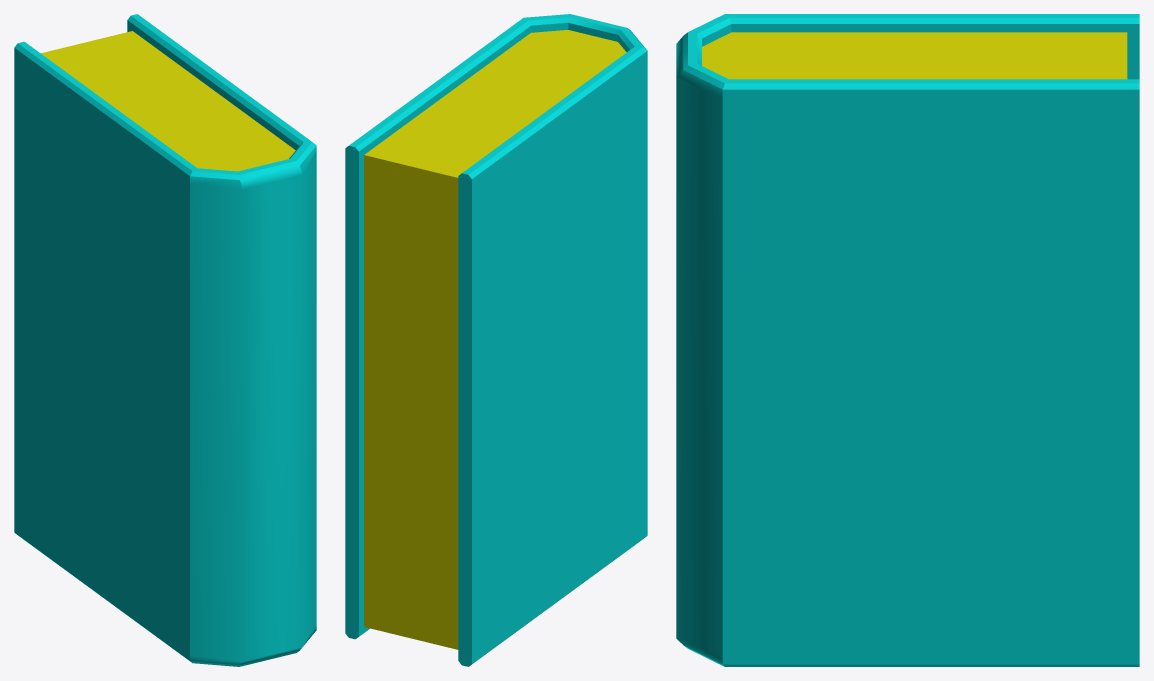
Rendered from Book.fbx.
The picture shows the model from 3 angles, left to right: view 1: azimuth 30°, elevation 25°; view 2: azimuth 150°, elevation 25°; view 3: azimuth 270°, elevation 25°; orthographic projection. The views are drawn at different scales.
Visible parts, largest first — view 1: Book; view 2: Book; view 3: Book.
Boxes of the visible parts, <box> form: Book: <box>14,14,316,666</box>; Book: <box>345,14,647,666</box>; Book: <box>676,14,1139,666</box>.
Bounding box in the file's own units: 0.2807 × 1.04 × 0.7501.
